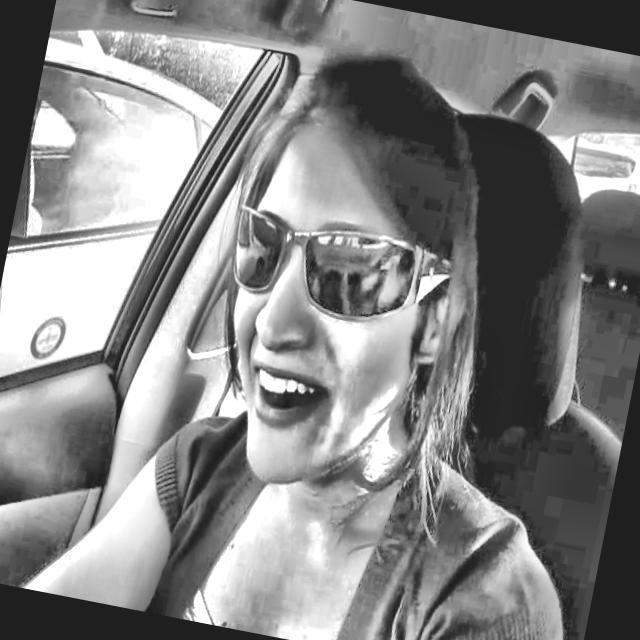open_mouth: (228, 350, 349, 447)
